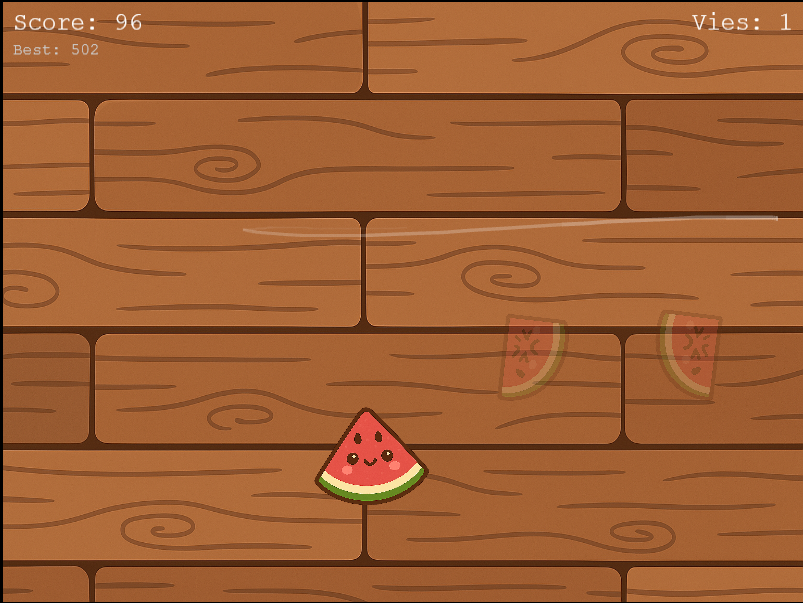fruit: (313, 405, 435, 508)
